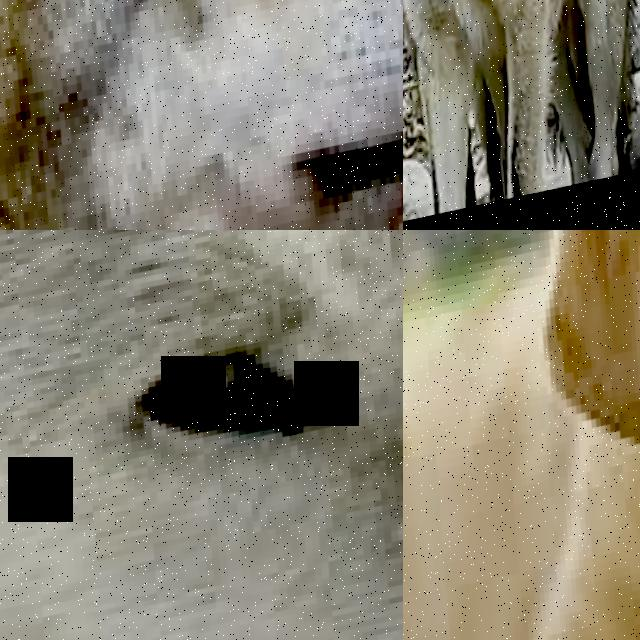dog: (403, 230, 640, 640)
wolf: (0, 230, 403, 640), (0, 0, 403, 230), (403, 0, 640, 230), (546, 0, 640, 183), (403, 0, 464, 230)
